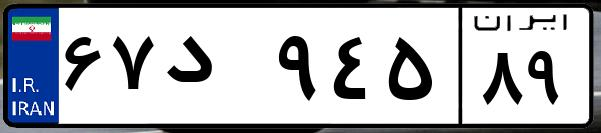4: (330, 28, 385, 110)
5: (385, 28, 445, 110)
6: (57, 26, 110, 100)
7: (110, 28, 158, 98)
8: (475, 38, 525, 113)
9: (270, 28, 330, 110), (525, 38, 570, 115)
د: (158, 20, 270, 120)
